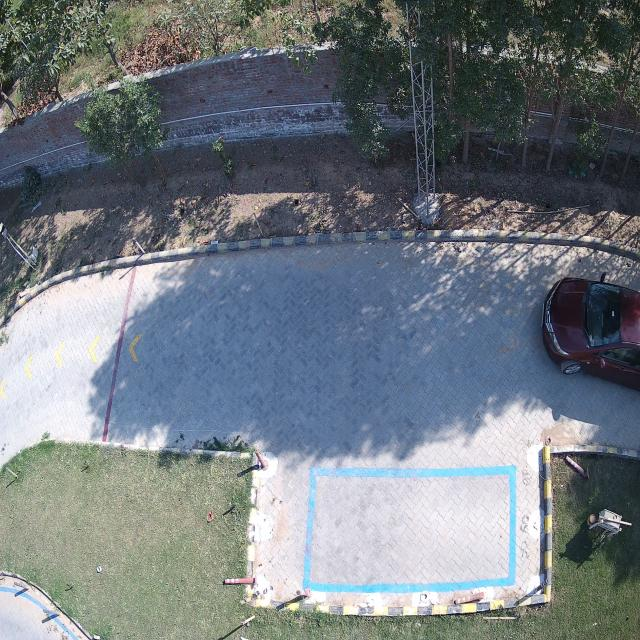car: (543, 277, 640, 386)
